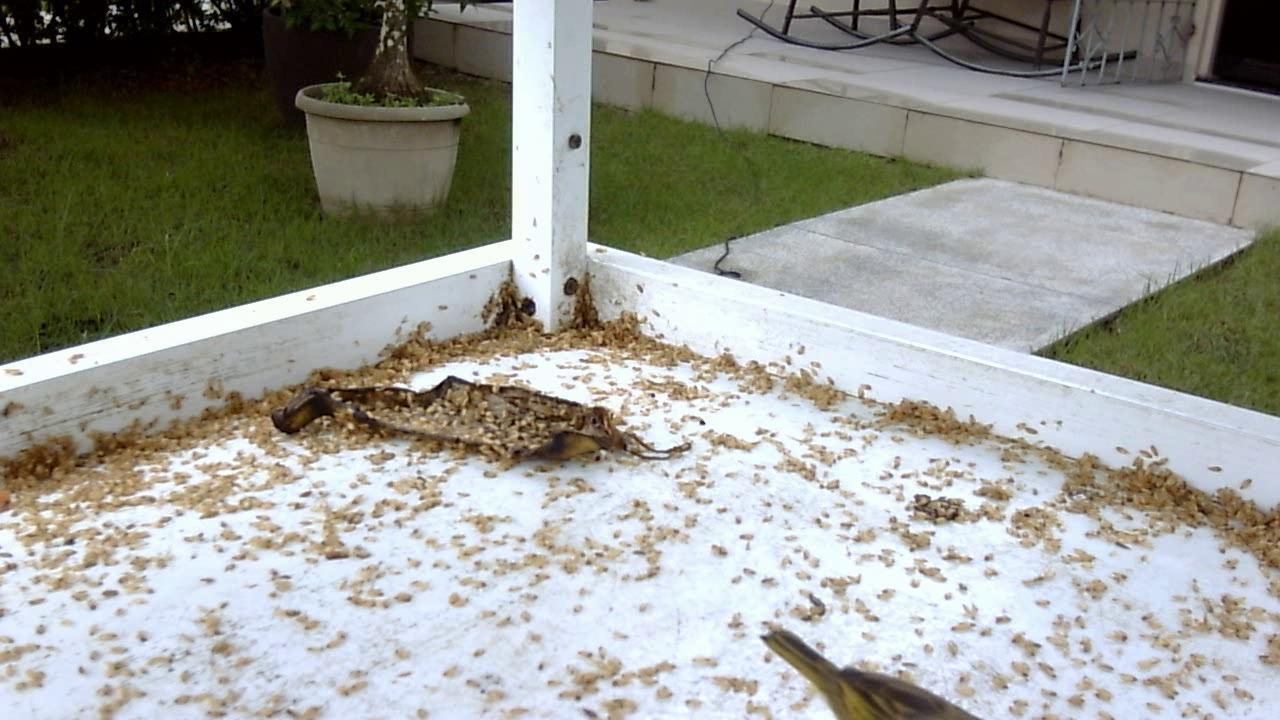canario_do_amazonas: (740, 609, 1007, 718)
